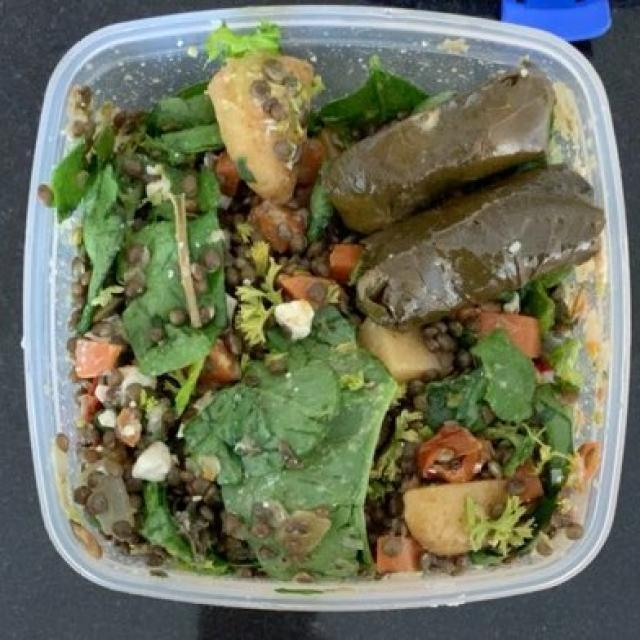potatoes: (220, 51, 514, 562)
spinach: (58, 60, 577, 573)
